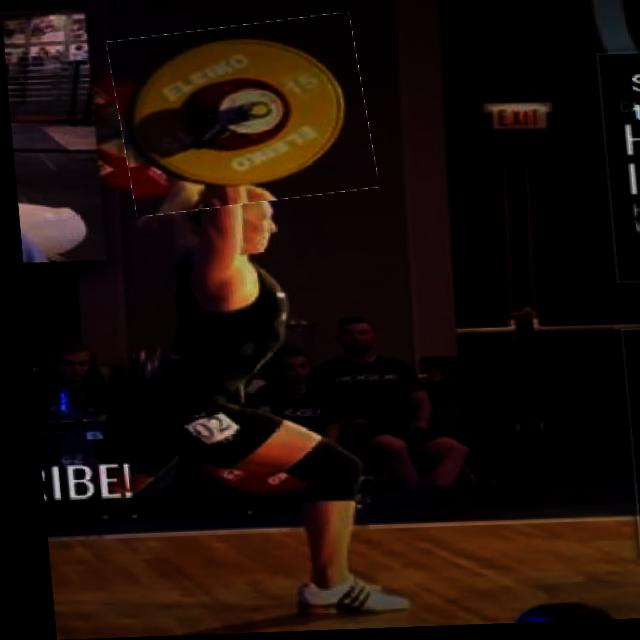barbell: (109, 21, 373, 214)
